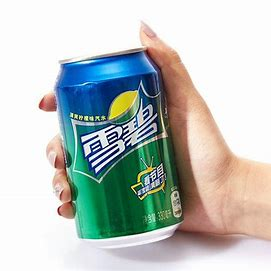Sprite: (54, 48, 186, 247)
